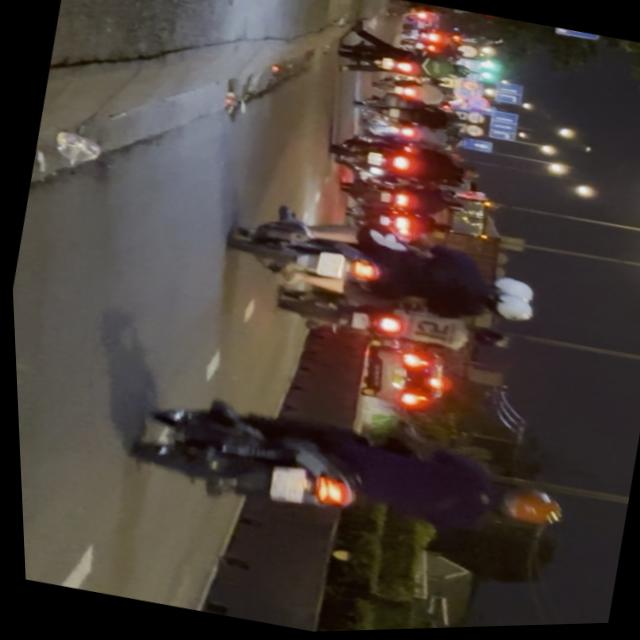helmet: (482, 481, 563, 537), (483, 294, 534, 329), (485, 275, 536, 308)
licenseplate: (121, 374, 572, 573), (219, 195, 547, 348)
nohelmet: (264, 466, 305, 507), (313, 252, 345, 281)
